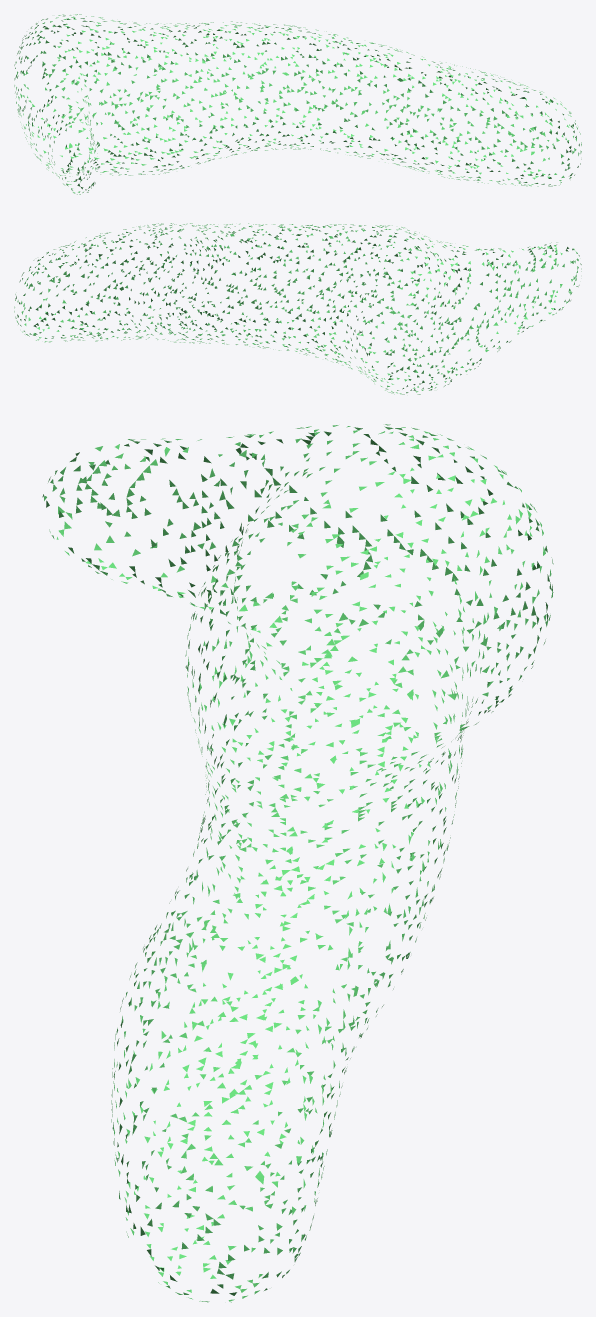
File: morph_019.glb
3 views of the same model, one above another, from view 1: azimuth 30°, elevation 25°; view 2: azimuth 150°, elevation 25°; view 3: azimuth 270°, elevation 25° (orthographic). The views are drawn at different scales.
Bounding box in the file's own units: 104 × 42.84 × 44.14.
